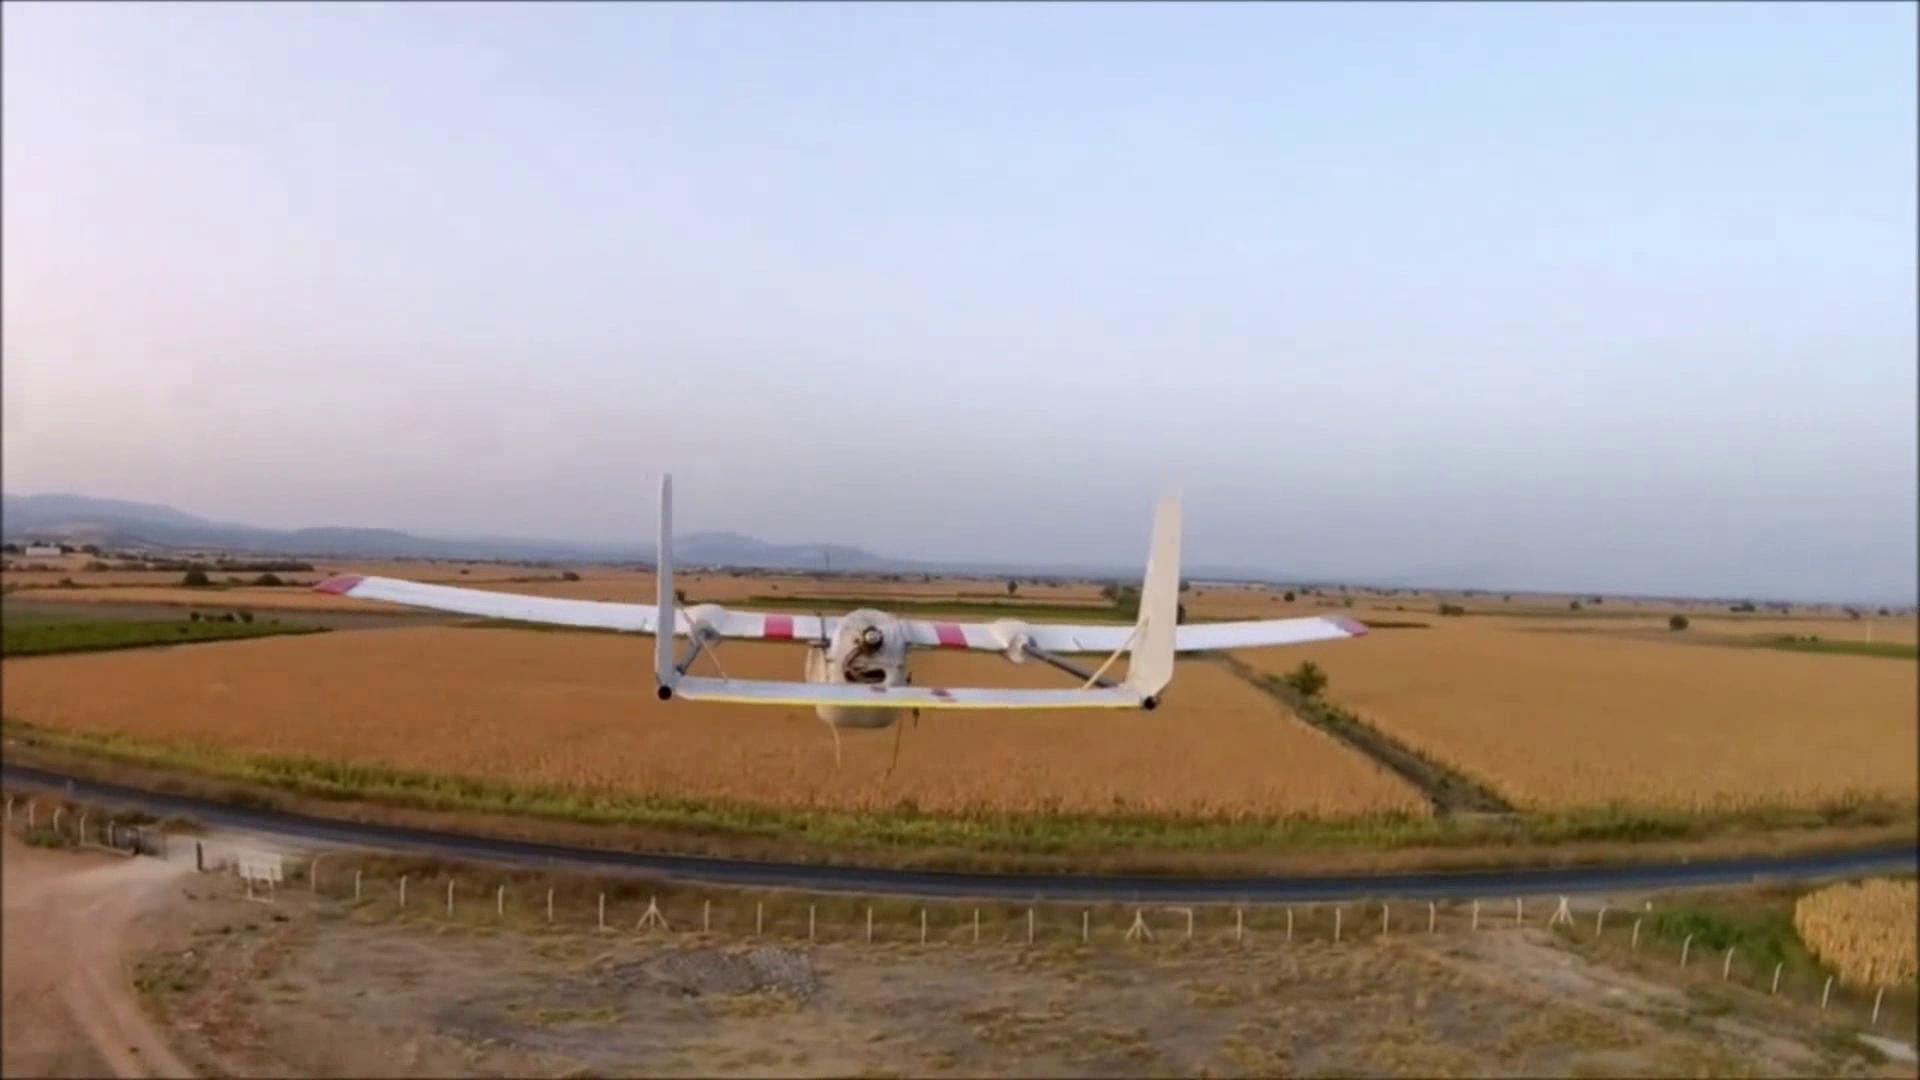airplane: (341, 472, 1367, 715)
